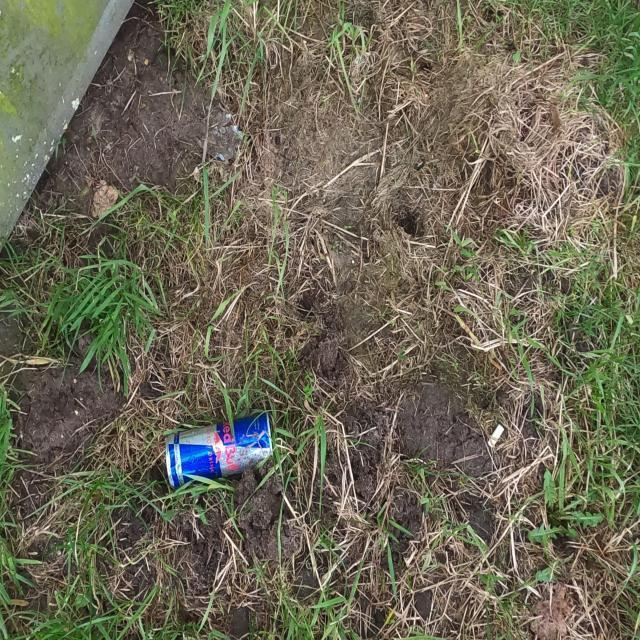Can-Metal: (163, 412, 274, 492)
